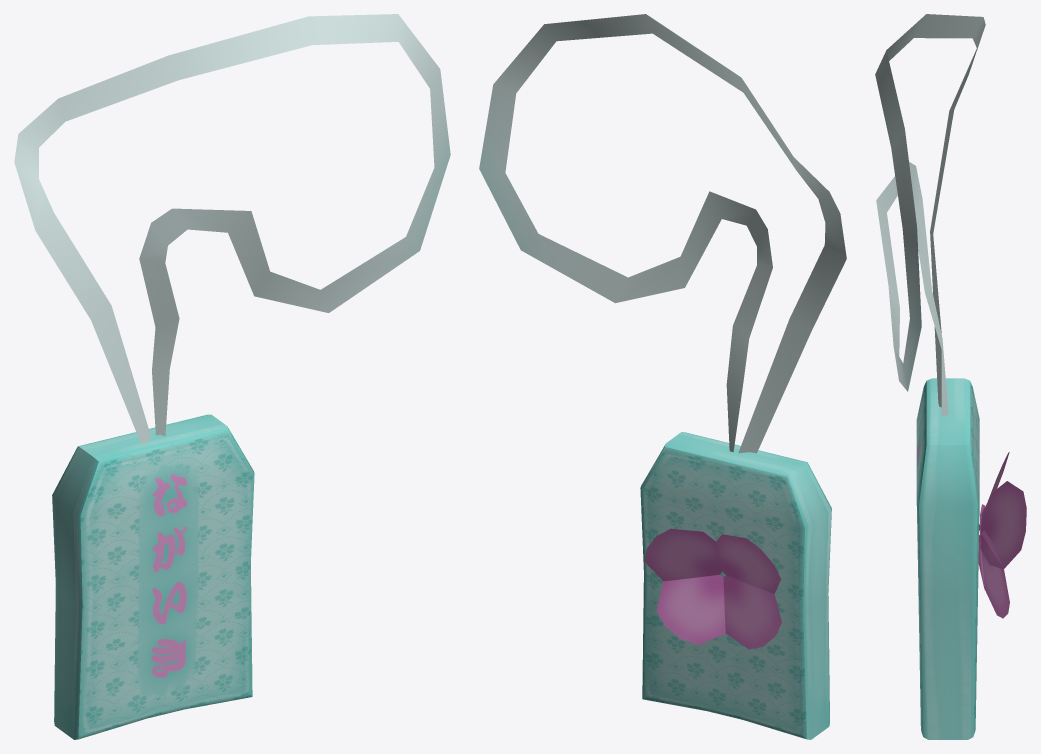
Rendered from SM_Item_Omamori.fbx.
3 views of the same model, side by side, from view 1: azimuth 30°, elevation 25°; view 2: azimuth 150°, elevation 25°; view 3: azimuth 270°, elevation 25° (orthographic). The views are drawn at different scales.
Visible parts, largest first — view 1: SM_Item_Omamori; view 2: SM_Item_Omamori; view 3: SM_Item_Omamori.
Part boxes in pixels (x1,y1,x2,y2): SM_Item_Omamori: (14, 14, 450, 739); SM_Item_Omamori: (479, 14, 846, 739); SM_Item_Omamori: (875, 14, 1026, 739).
Bounding box in the file's own units: 66.63 × 107 × 20.73.
